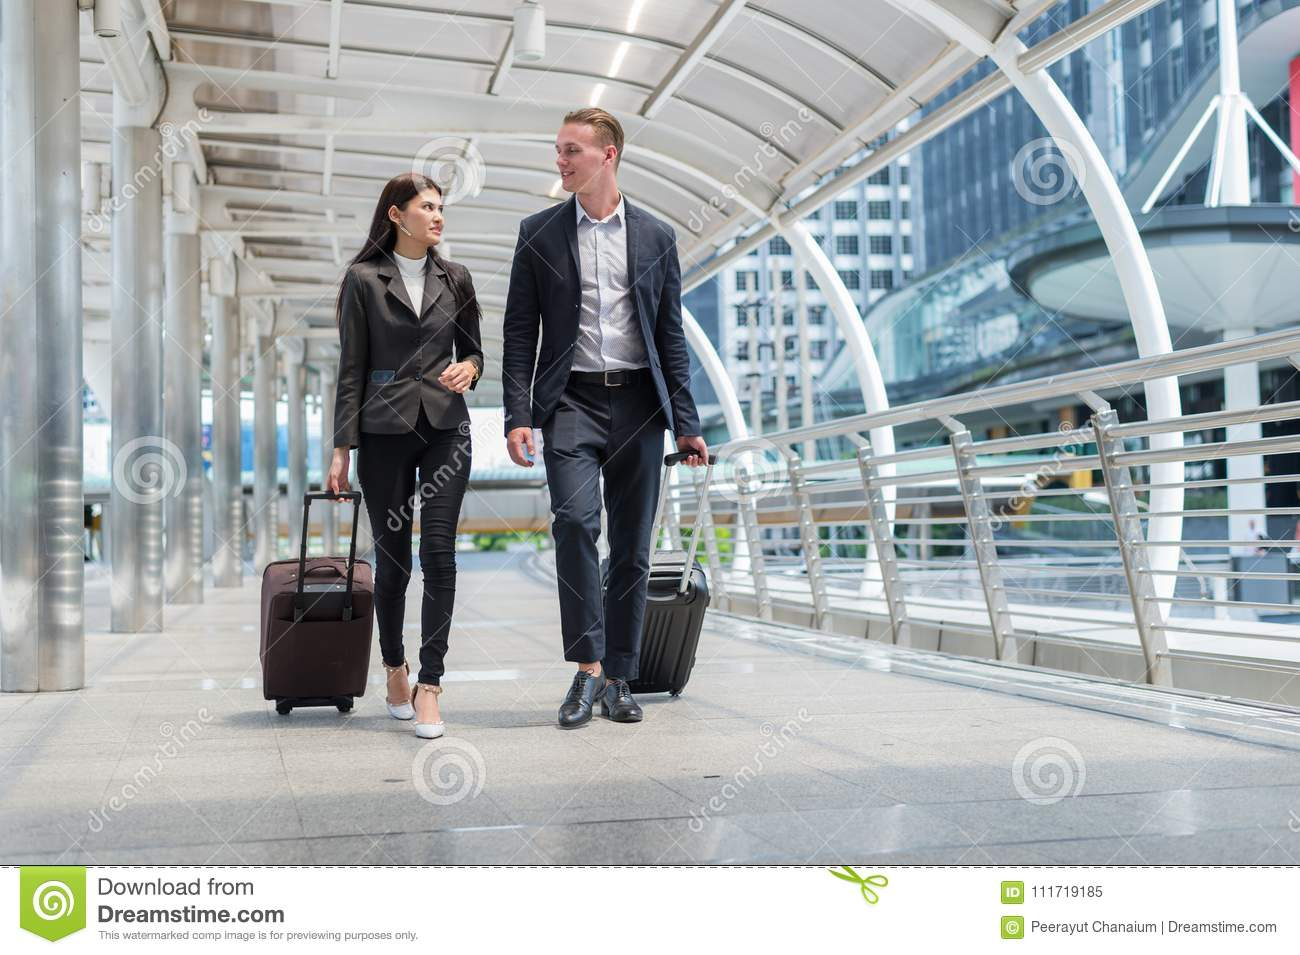feet: (539, 632, 655, 738), (359, 634, 467, 744)
